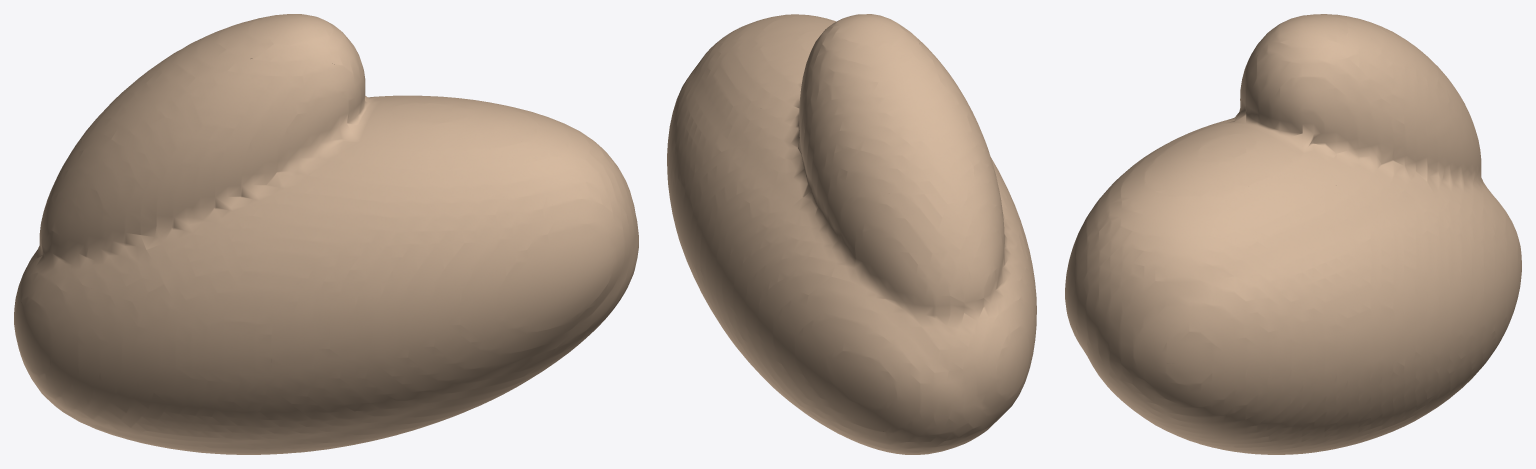
File: camille-right.gltf
The picture shows the model from 3 angles, left to right: view 1: azimuth 30°, elevation 25°; view 2: azimuth 150°, elevation 25°; view 3: azimuth 270°, elevation 25°; orthographic projection. The views are drawn at different scales.
Visible parts, largest first — view 1: Layer_3; view 2: Layer_3; view 3: Layer_3.
Part boxes in pixels (x1,y1,x2,y2): Layer_3: (14, 14, 638, 454); Layer_3: (667, 14, 1036, 454); Layer_3: (1065, 14, 1521, 454).
Size of the model in its own units: 35.9 by 30.12 by 30.27.
Materials: 1 (1 with a texture image).
